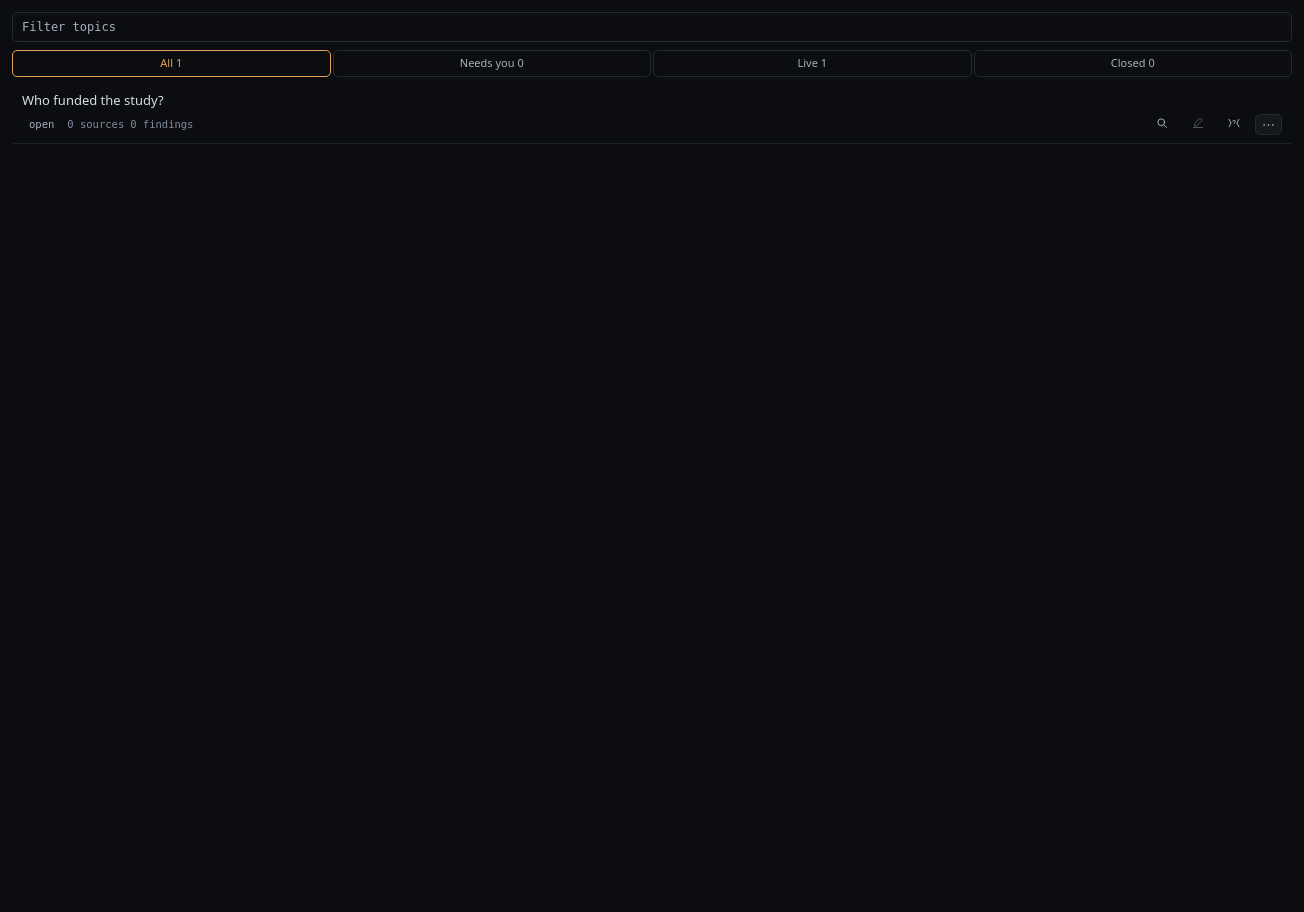
Test: opens the status panel for a topic on manage, reading its detail first
Click the button named "more actions": (1268, 125) [1255,114,1282,135]
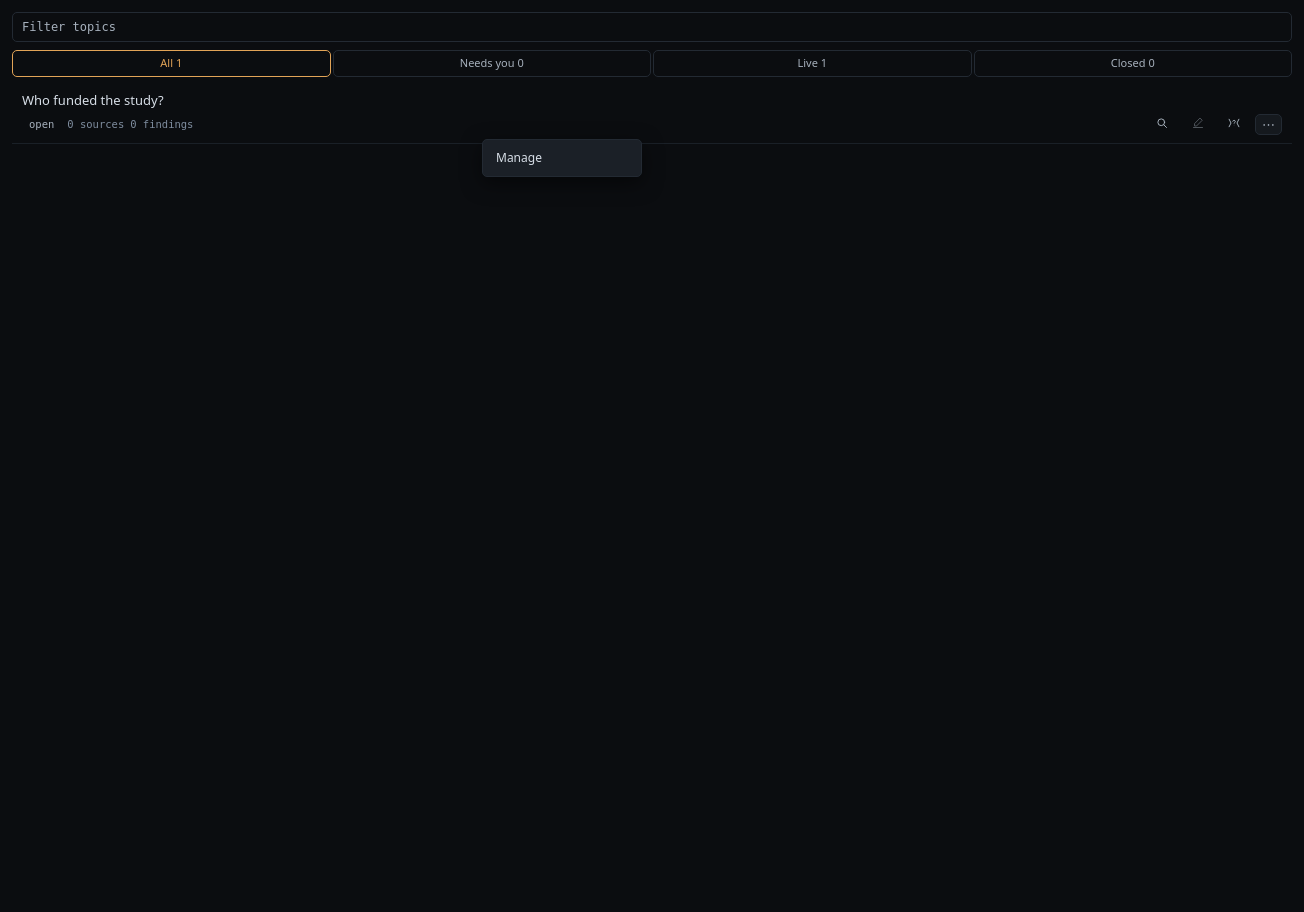
Click the menu item "Manage": (519, 158) [496,149,542,166]
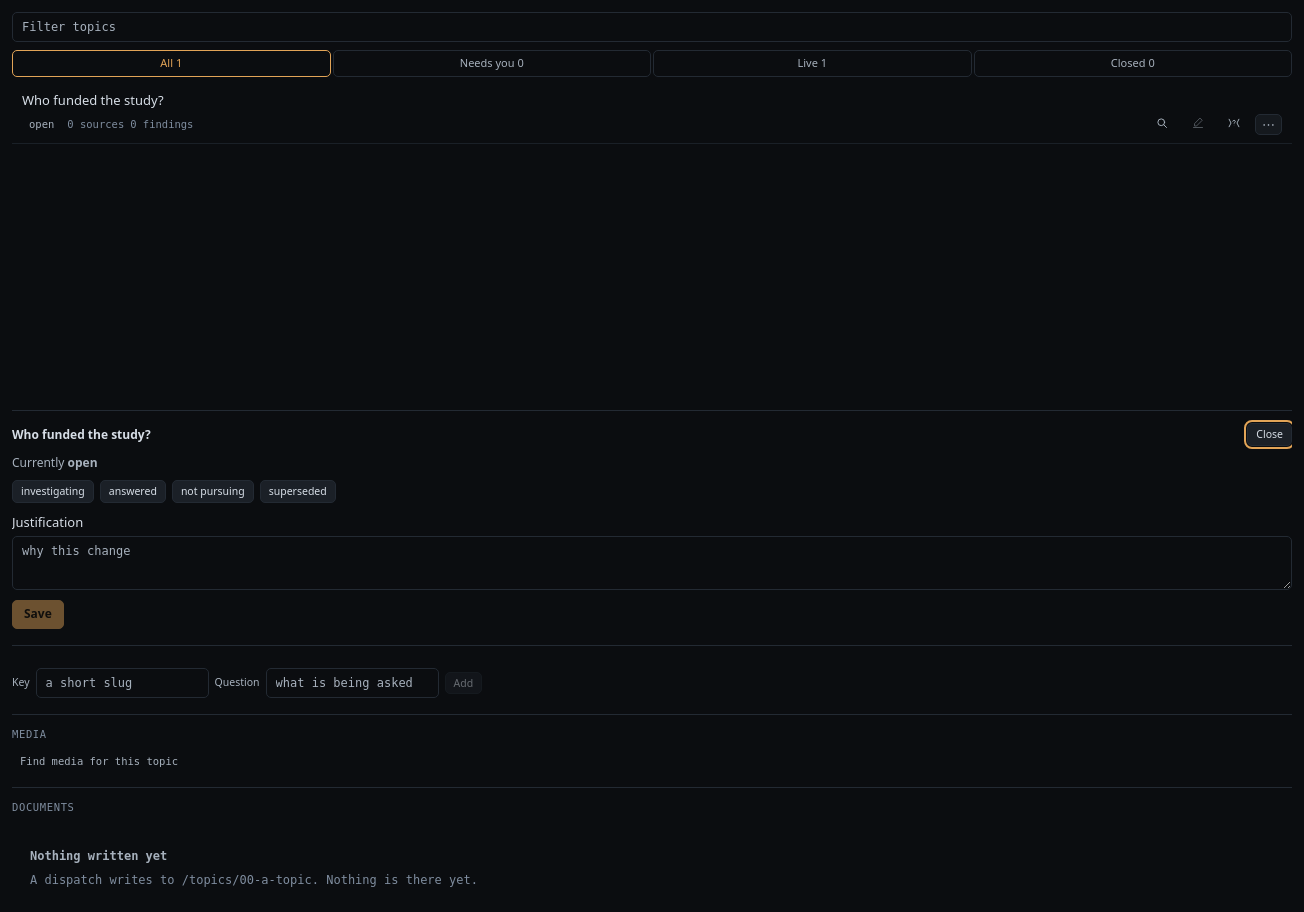
Expected: the element named "manage who funded the study" is shown, [12,410,1292,911]
